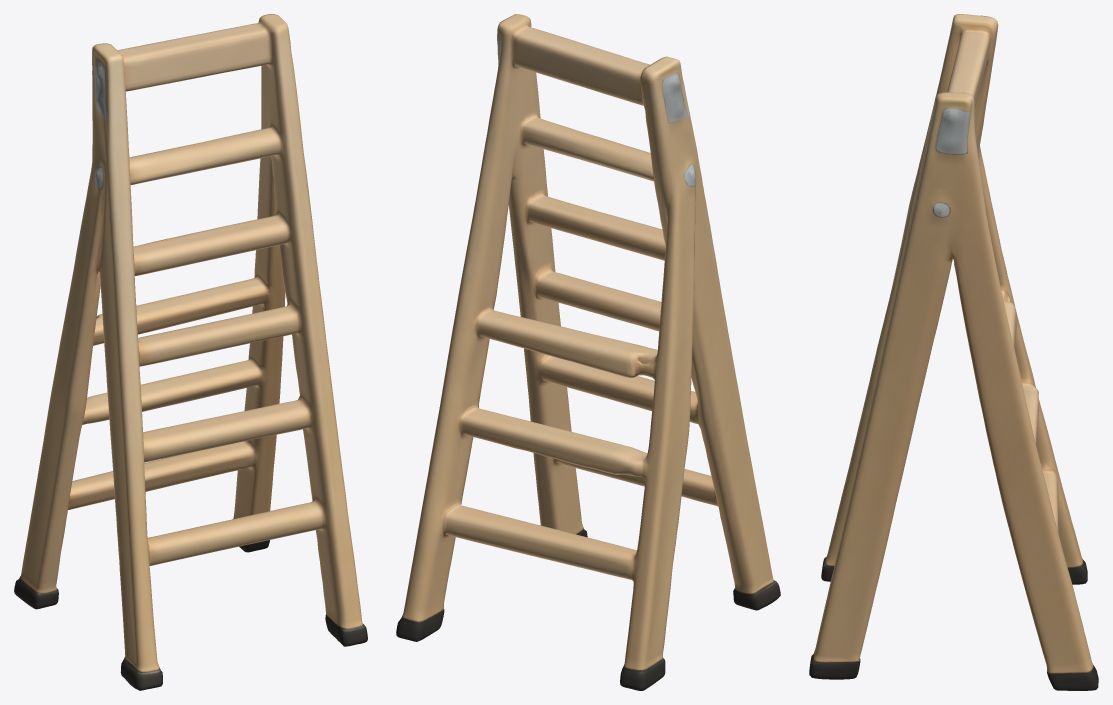
The model's file is 05_ladder.glb.
The picture shows the model from 3 angles, left to right: view 1: azimuth 30°, elevation 25°; view 2: azimuth 150°, elevation 25°; view 3: azimuth 270°, elevation 25°; orthographic projection.
Visible parts, largest first — view 1: 05_ladder; view 2: 05_ladder; view 3: 05_ladder.
Boxes of the visible parts, box(x1,y1,x2,y2) form: 05_ladder: box(14, 14, 367, 690); 05_ladder: box(396, 14, 780, 690); 05_ladder: box(809, 14, 1098, 690).
Bounding box in the file's own units: 1.08 × 2.4 × 1.09.
1 material, 1 textured.
